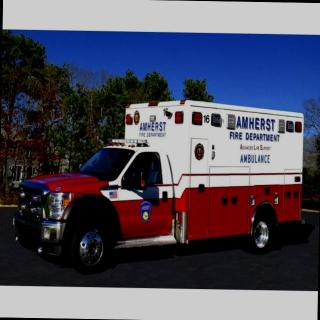Ambulance: (17, 66, 309, 282)
